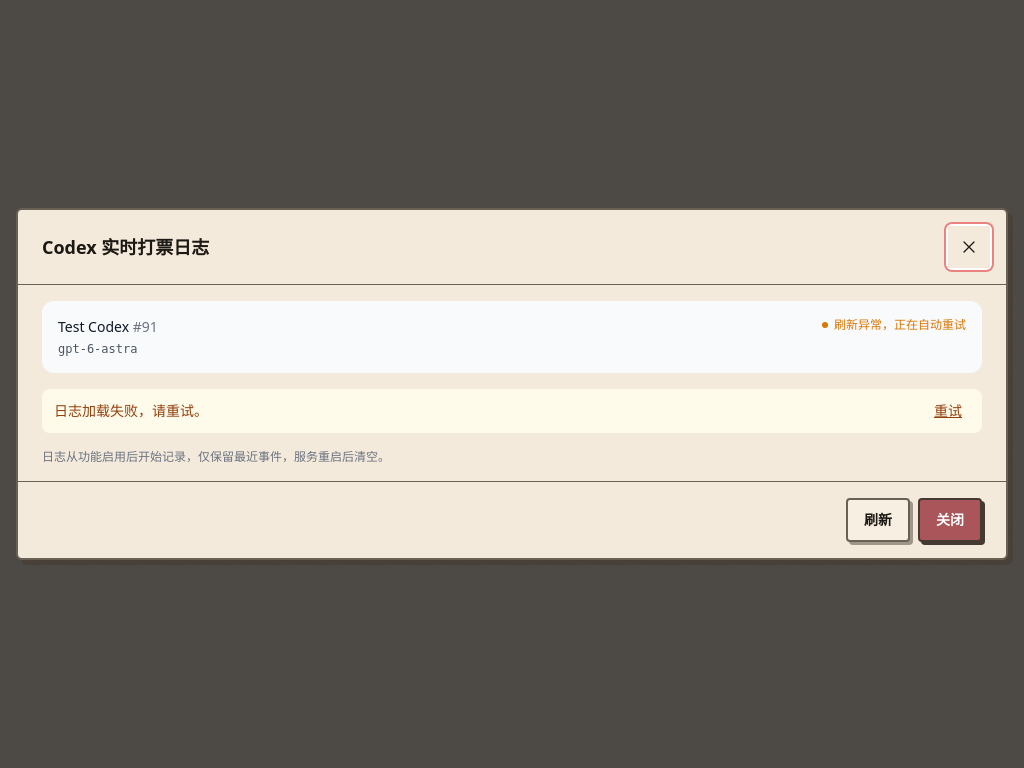
Test: CodexTicketLogsDialog › offers retry after an initial failure and explains the empty log window
Check: the message "日志加载失败，请重试。 重试" is shown, box [42,389,982,433]
Click the button "重试" at (948, 411), box [926,397,970,425]
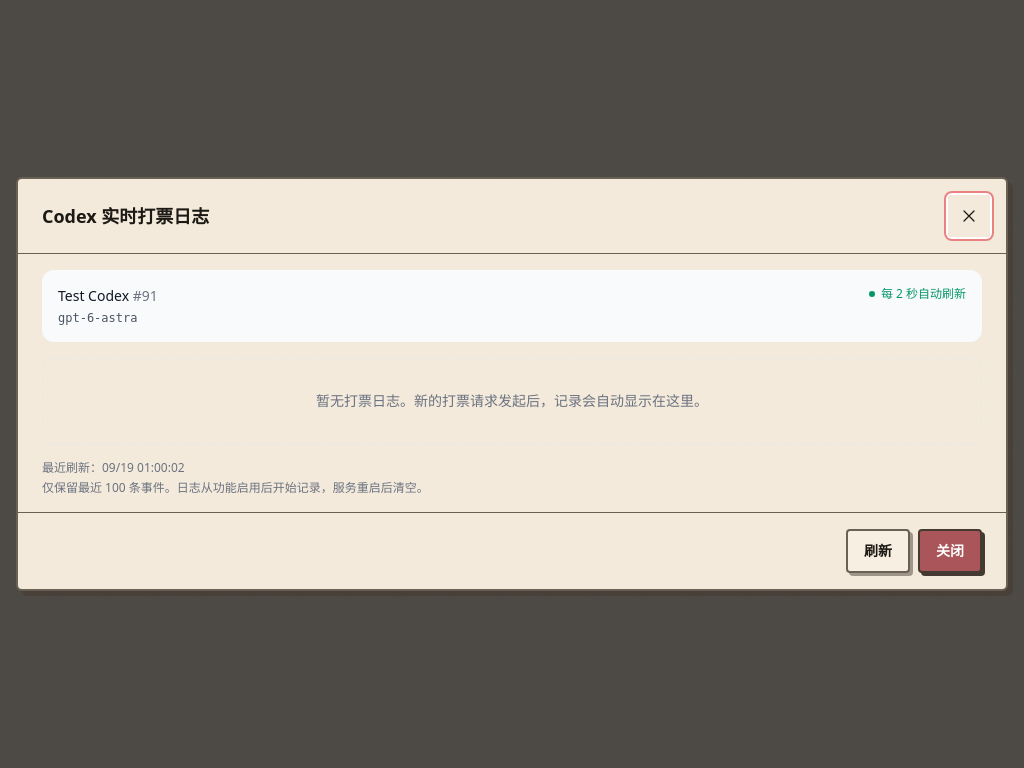
Check: the text "服务重启后清空" is shown, box [42,479,429,496]
Check: the text "暂无打票日志" is shown, box [316,391,708,410]
Check: the text "最近 100 条事件" is shown, box [42,479,429,496]
